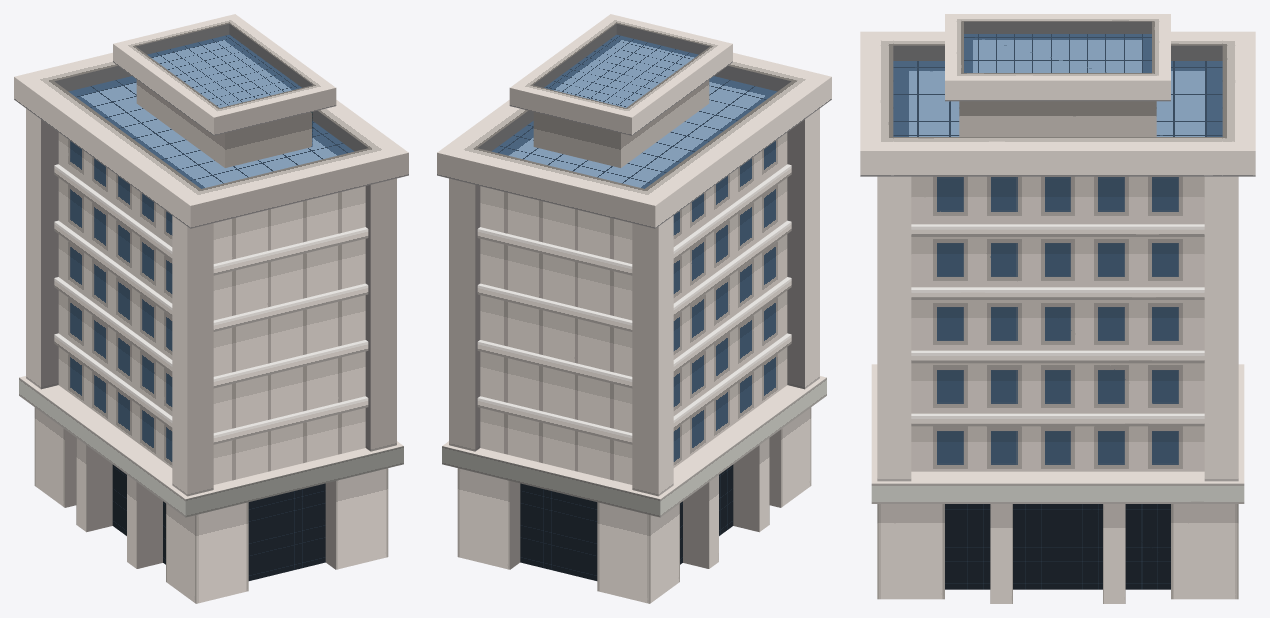
The model's file is thetoaster2.glb.
3 renders of one model, left to right at view 1: azimuth 30°, elevation 25°; view 2: azimuth 150°, elevation 25°; view 3: azimuth 270°, elevation 25°, orthographic. The views are drawn at different scales.
Parts seen in each view (by area): view 1: Cube.003, Cube.004, Cube.009, Cube.020, Cube.010, Cube.013, Cube.011, Cube.080, Cube.076, Cube.016, Cube, Cube.007 (+6 smaller); view 2: Cube.003, Cube.004, Cube.009, Cube.020, Cube.013, Cube.010, Cube.012, Cube.080, Cube.065, Cube.014, Cube, Cube.007 (+6 smaller); view 3: Cube.003, Cube.004, Cube.009, Cube.080, Cube.020, Cube.011, Cube.012, Cube, Cube.014, Cube.016, Cube.008, Cube.005 (+4 smaller).
Boxes of the visible parts, bbox=[...] form: Cube.003: bbox=[58, 132, 365, 484]; Cube.004: bbox=[14, 52, 408, 228]; Cube.009: bbox=[113, 14, 336, 135]; Cube.020: bbox=[19, 376, 403, 517]; Cube.010: bbox=[172, 216, 213, 496]; Cube.013: bbox=[26, 108, 58, 389]; Cube.011: bbox=[365, 178, 396, 451]; Cube.080: bbox=[112, 464, 325, 580]; Cube.076: bbox=[166, 502, 248, 603]; Cube.016: bbox=[325, 468, 388, 569]; Cube: bbox=[136, 80, 312, 167]; Cube.007: bbox=[54, 164, 368, 275]; Cube.003: bbox=[480, 132, 787, 484]; Cube.004: bbox=[437, 52, 831, 228]; Cube.009: bbox=[509, 14, 732, 135]; Cube.020: bbox=[442, 376, 826, 517]; Cube.013: bbox=[632, 216, 673, 496]; Cube.010: bbox=[787, 108, 819, 389]; Cube.012: bbox=[449, 178, 480, 451]; Cube.080: bbox=[520, 464, 733, 580]; Cube.065: bbox=[597, 502, 679, 603]; Cube.014: bbox=[457, 468, 520, 569]; Cube: bbox=[533, 80, 709, 167]; Cube.007: bbox=[477, 164, 791, 275]; Cube.003: bbox=[911, 176, 1204, 471]; Cube.004: bbox=[860, 31, 1255, 176]; Cube.009: bbox=[945, 14, 1170, 101]; Cube.080: bbox=[945, 504, 1170, 589]; Cube.020: bbox=[871, 364, 1244, 503]; Cube.011: bbox=[877, 176, 911, 481]; Cube.012: bbox=[1204, 176, 1238, 481]; Cube: bbox=[959, 101, 1156, 136]; Cube.014: bbox=[1171, 504, 1238, 599]; Cube.016: bbox=[877, 504, 944, 599]; Cube.008: bbox=[911, 413, 1204, 426]; Cube.005: bbox=[911, 350, 1204, 363].
Bounding box in the file's own units: 2.5 × 4.95 × 3.5.
Materials: 8 (8 with a texture image).
